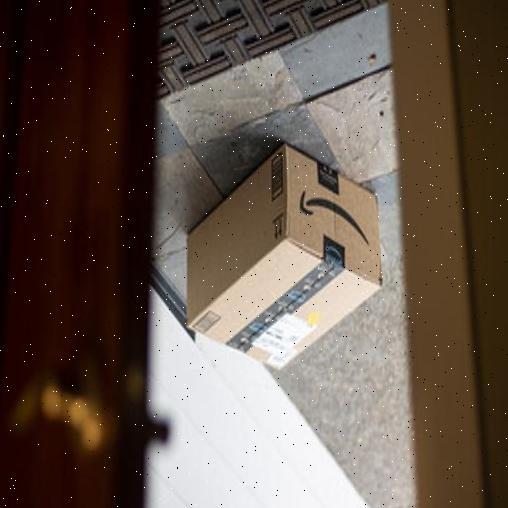Amazon: (185, 140, 384, 375)
